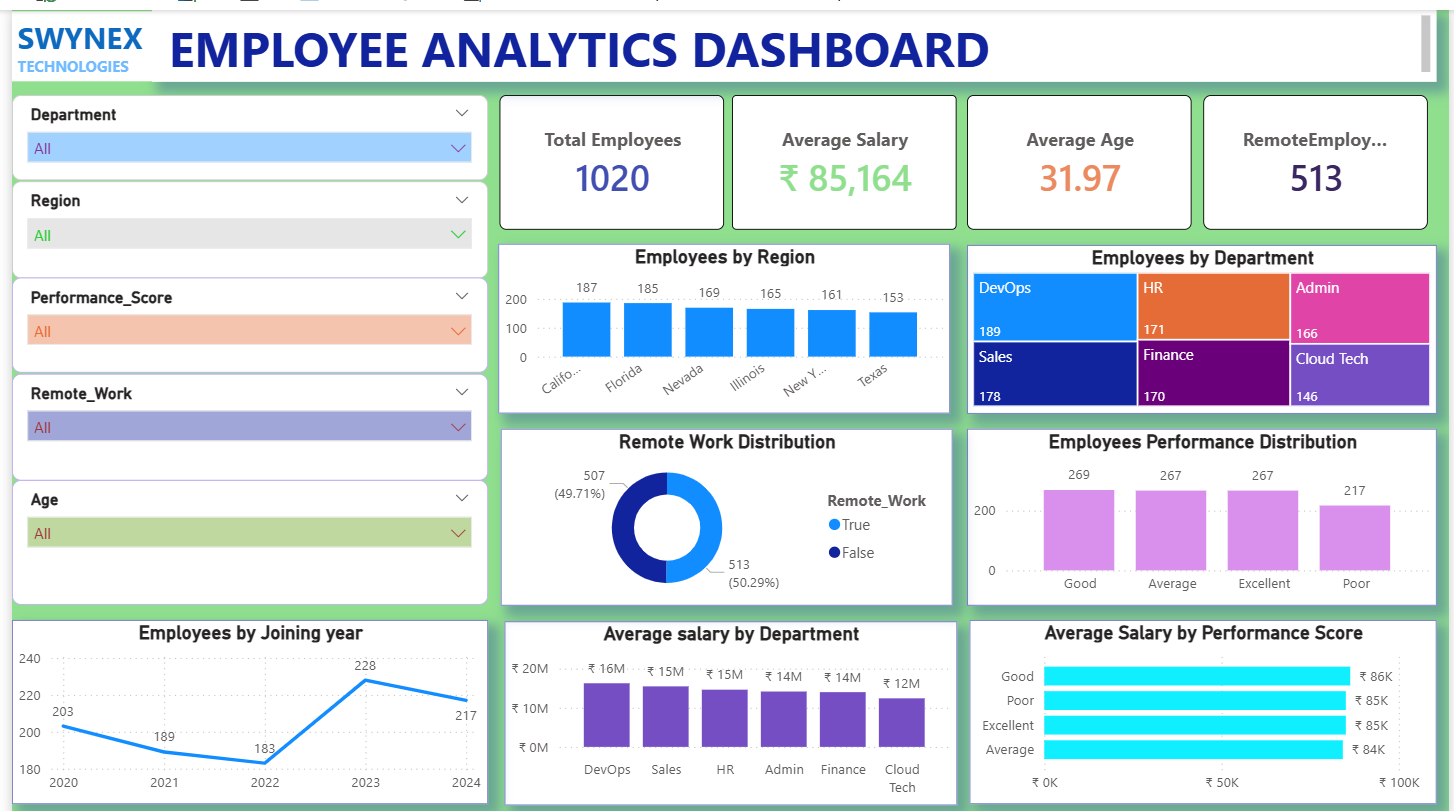

The page's visual inventory and layout, read from the dashboard file:
{"tool":"powerbi","page":{"name":"Page 1","canvas":[1280,720],"ordinal":0},"visuals":[{"type":"cardVisual","title":"T","fields":{"Data":["CountNonNull(cleaned_dataset.Employee_ID)"]},"box":[433.8,76.2,200,120],"z":0},{"type":"textbox","box":[125,0,1143.8,63.8],"z":1000},{"type":"cardVisual","fields":{"Data":["Avg(cleaned_dataset.Salary)"]},"box":[641.2,76.2,200,120],"z":2000},{"type":"cardVisual","fields":{"Data":["cleaned_dataset.Remote Employees"]},"box":[1061.2,76.2,200,120],"z":3000},{"type":"treemap","title":"Employees by Department","fields":{"Group":["cleaned_dataset.Department"],"Values":["CountNonNull(cleaned_dataset.Employee_ID)"]},"box":[850,208.8,418.8,150],"z":4000},{"type":"clusteredColumnChart","title":"Employees by Region","fields":{"Y":["CountNonNull(cleaned_dataset.Employee_ID)"],"Category":["cleaned_dataset.Region"]},"box":[433.1,208.6,402.5,150.9],"z":5000},{"type":"clusteredColumnChart","title":"Average salary by Department","fields":{"Y":["Avg(cleaned_dataset.Salary)"],"Category":["cleaned_dataset.Department"]},"box":[438.6,544.3,402.9,164.3],"z":6000},{"type":"clusteredColumnChart","title":"Employees Performance Distribution","fields":{"Category":["cleaned_dataset.Performance_Score"],"Y":["CountNonNull(cleaned_dataset.Employee_ID)"]},"box":[850,372.5,418.8,157.5],"z":7000},{"type":"donutChart","title":"Remote Work Distribution","fields":{"Category":["cleaned_dataset.Remote_Work"],"Y":["CountNonNull(cleaned_dataset.Employee_ID)"]},"box":[435,373.2,402.1,157.8],"z":8000},{"type":"clusteredBarChart","title":"Average Salary by Performance Score","fields":{"Category":["cleaned_dataset.Performance_Score"],"Y":["Avg(cleaned_dataset.Salary)"]},"box":[852.5,543.8,416.2,163.8],"z":9000},{"type":"slicer","fields":{"Values":["cleaned_dataset.Department"]},"box":[0,76.2,423.8,76.2],"z":10000},{"type":"slicer","fields":{"Values":["cleaned_dataset.Region"]},"box":[0,152.5,423.8,86.2],"z":11000},{"type":"slicer","fields":{"Values":["cleaned_dataset.Performance_Score"]},"box":[0,238.8,423.8,85],"z":12000},{"type":"slicer","fields":{"Values":["cleaned_dataset.Remote_Work"]},"box":[0,323.8,423.8,95],"z":13000},{"type":"cardVisual","fields":{"Data":["Avg(cleaned_dataset.Age)"]},"box":[850,76.2,200,120],"z":14000},{"type":"slicer","fields":{"Values":["cleaned_dataset.Age"]},"box":[0,418.8,423.8,111.2],"z":15000},{"type":"lineChart","title":"Employees by Joining year","fields":{"Y":["CountNonNull(cleaned_dataset.Employee_ID)"],"Category":["cleaned_dataset.Join_Date.Variation.Date Hierarchy.Year"]},"box":[0,543.8,423.8,163.8],"z":16000},{"type":"textbox","box":[0,1.2,125,62.5],"z":17000}]}

Visuals, with their boxes in screenshot pixels (x1, y1, x2, y2), scaled from the page's 1280x720 canvas onto the 1454x811 screenshot:
"T" cardVisual: (493,86,720,221)
textbox: (142,0,1441,72)
cardVisual - Avg(cleaned_dataset.Salary): (728,86,956,221)
cardVisual - cleaned_dataset.Remote Employees: (1205,86,1433,221)
"Employees by Department" treemap: (966,235,1441,404)
"Employees by Region" clusteredColumnChart: (492,235,949,405)
"Average salary by Department" clusteredColumnChart: (498,613,956,798)
"Employees Performance Distribution" clusteredColumnChart: (966,420,1441,597)
"Remote Work Distribution" donutChart: (494,420,951,598)
"Average Salary by Performance Score" clusteredBarChart: (968,613,1441,797)
slicer - cleaned_dataset.Department: (0,86,481,172)
slicer - cleaned_dataset.Region: (0,172,481,269)
slicer - cleaned_dataset.Performance_Score: (0,269,481,365)
slicer - cleaned_dataset.Remote_Work: (0,365,481,472)
cardVisual - Avg(cleaned_dataset.Age): (966,86,1193,221)
slicer - cleaned_dataset.Age: (0,472,481,597)
"Employees by Joining year" lineChart: (0,613,481,797)
textbox: (0,1,142,72)
